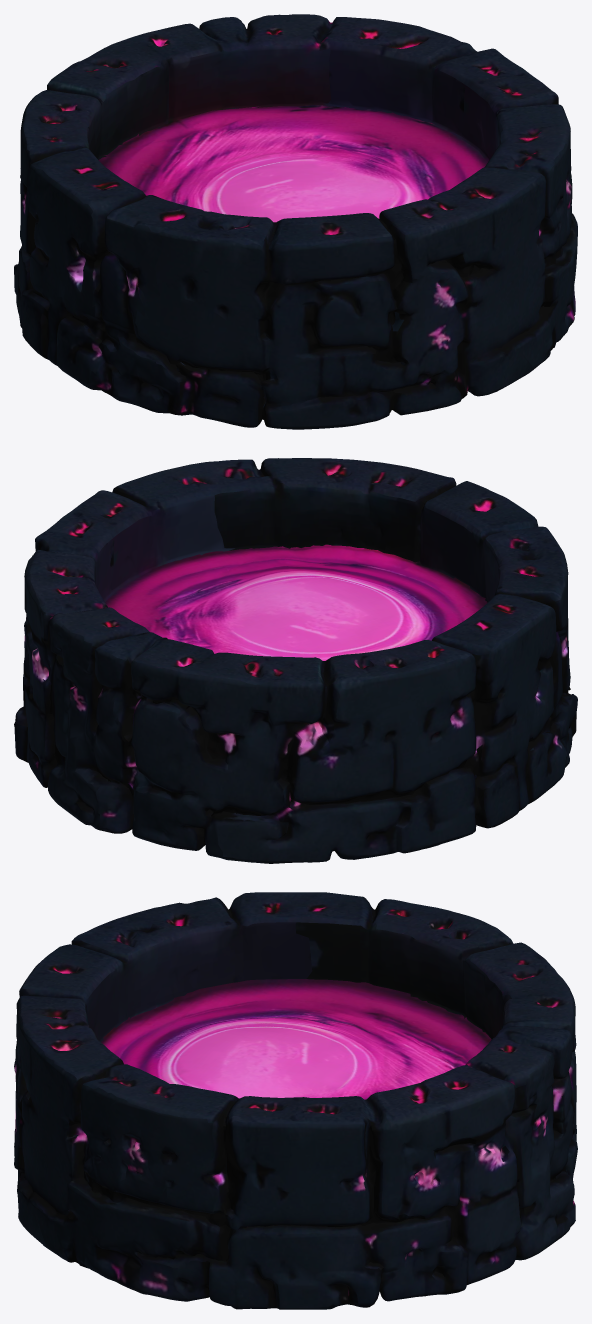
File: well-of-urd-pool-generated-2026-05-17T17-58-13-081Z.high.glb
The picture shows the model from 3 angles, top to bottom: view 1: azimuth 30°, elevation 25°; view 2: azimuth 150°, elevation 25°; view 3: azimuth 270°, elevation 25°; orthographic projection. The views are drawn at different scales.
Parts seen in each view (by area): view 1: temp_mesh.ply; view 2: temp_mesh.ply; view 3: temp_mesh.ply.
Part boxes in pixels (x1=…): temp_mesh.ply: x1=14, y1=14, x2=577, y2=429; temp_mesh.ply: x1=14, y1=458, x2=577, y2=863; temp_mesh.ply: x1=14, y1=892, x2=577, y2=1309.
Bounding box in the file's own units: 1.97 × 0.7308 × 1.97.
1 material, 1 textured.
